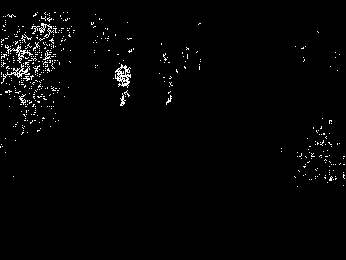person: (113, 62, 132, 106)
